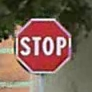stop: (15, 16, 72, 74)
